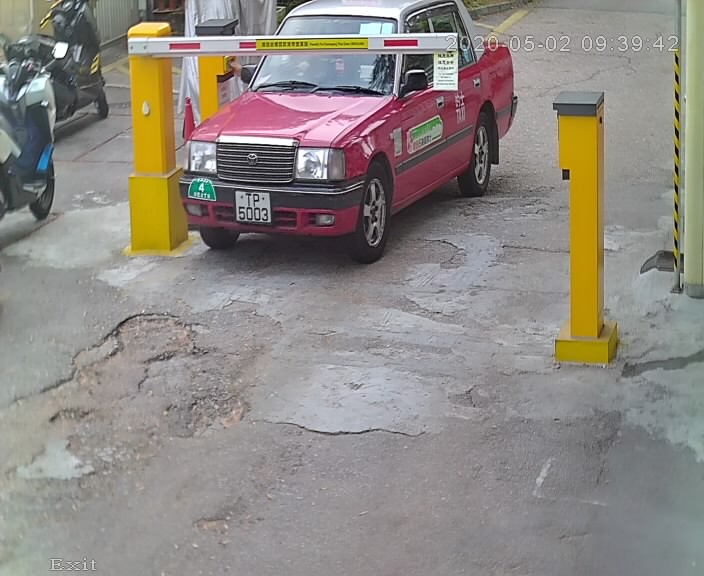taxi: (166, 2, 538, 288)
taxi_mark: (182, 169, 225, 217)
